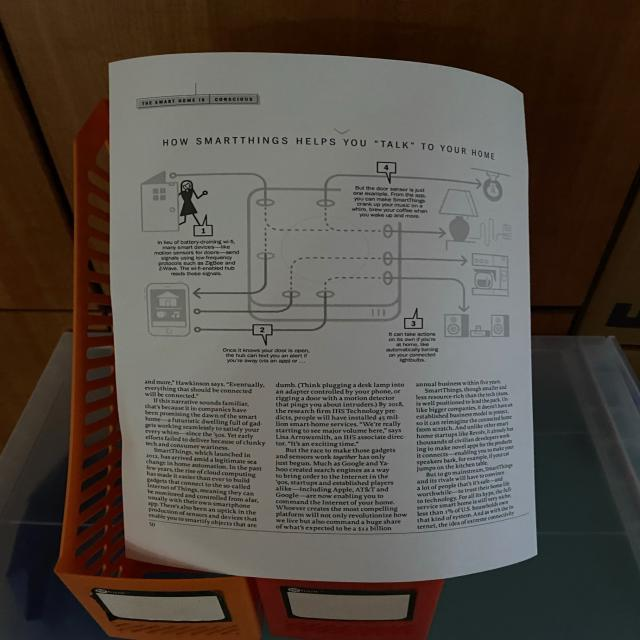document: (110, 54, 537, 582)
